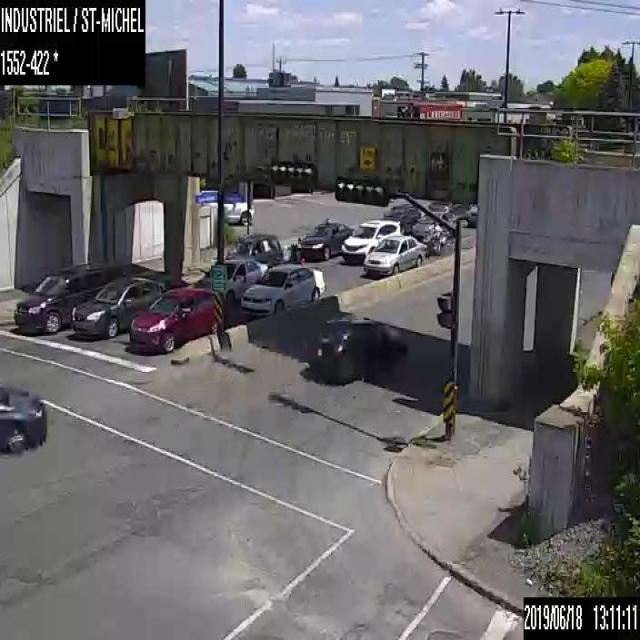vehicle: (14, 263, 124, 333), (306, 314, 404, 382), (71, 276, 164, 338), (130, 287, 215, 353), (240, 263, 324, 313), (0, 382, 45, 454), (195, 259, 267, 300), (340, 218, 402, 262), (364, 235, 424, 276), (298, 216, 352, 259), (194, 188, 254, 224), (226, 232, 284, 264), (467, 201, 477, 226)
